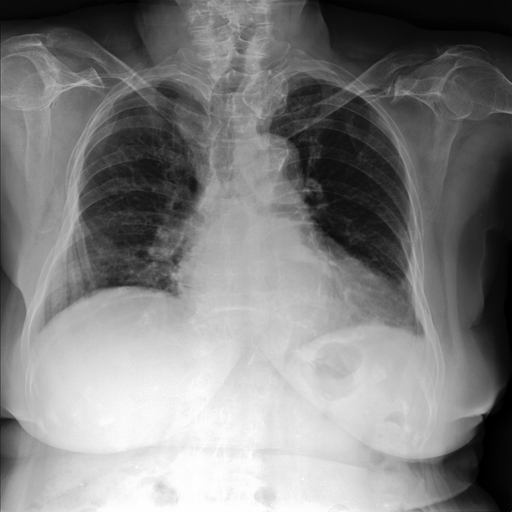Consolidation: (231, 133, 309, 203)
Nodule/Mass: (173, 248, 396, 326)
Other lesion: (203, 74, 239, 193), (243, 68, 287, 119)
